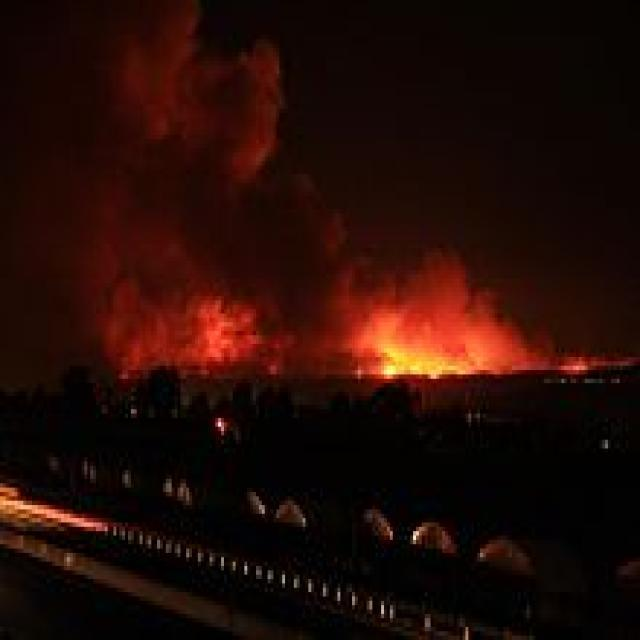Fire: (378, 338, 486, 380), (563, 358, 587, 372)
Smoke: (114, 0, 286, 174), (339, 251, 549, 379), (98, 268, 288, 377)
